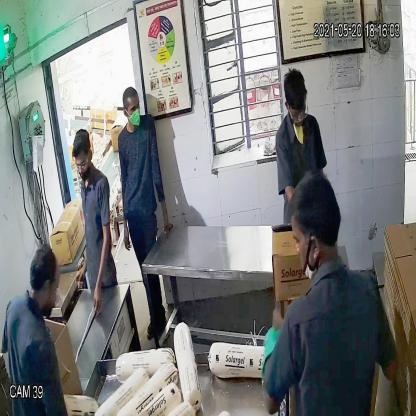goggles: (277, 93, 315, 126), (72, 150, 93, 176)
